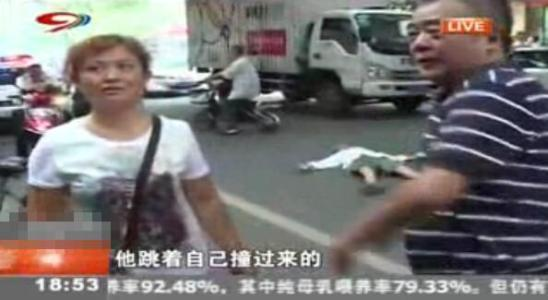Fall-Detected: (296, 122, 424, 203)
